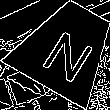N_NE: (35, 16, 99, 80)
